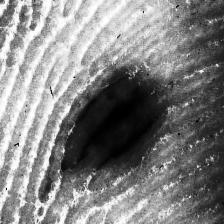Benign Marking or Mole: (60, 75, 166, 171)
